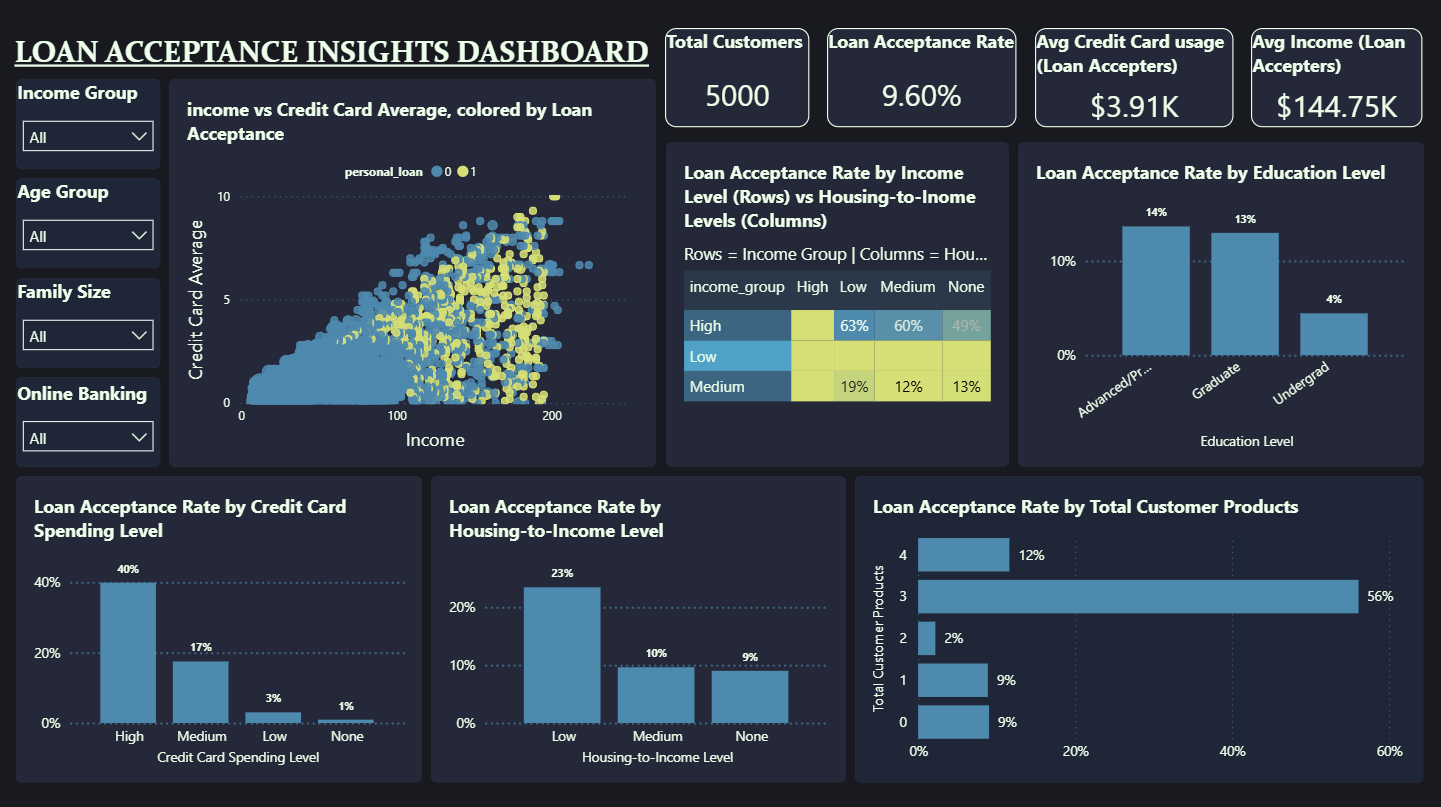

The page's visual inventory and layout, read from the dashboard file:
{"tool":"powerbi","page":{"name":"Page 1","canvas":[1280,720],"ordinal":0},"visuals":[{"type":"card","title":"Total Customers","fields":{"Values":["Bank_Customers_table.total_customers"]},"box":[591.1,26.7,128,88],"z":0},{"type":"card","title":"Loan Acceptance Rate","fields":{"Values":["Bank_Customers_table.Loan_Acceptance_Rate"]},"box":[735.1,26.7,168,88],"z":1000},{"type":"card","title":"Avg Income (Loan Accepters)","fields":{"Values":["Bank_Customers_table.Avg Income (Loan Accepters)"]},"box":[1111.1,26.7,152,88],"z":2000},{"type":"card","title":"Avg Credit Card usage (Loan Accepters) ","fields":{"Values":["Bank_Customers_table.Avg Credit Card Spend (Loan Accepters)"]},"box":[919.1,26.7,176,88],"z":3000},{"type":"slicer","title":"Income Group","fields":{"Values":["Bank_Customers_table.income_group"]},"box":[16,72,128,80],"z":4000},{"type":"slicer","title":"Family Size","fields":{"Values":["Bank_Customers_table.family"]},"box":[16,248,128,80],"z":5000},{"type":"slicer","title":"Online Banking","fields":{"Values":["Bank_Customers_table.online_banking"]},"box":[16,336,128,80],"z":6000},{"type":"slicer","title":"Age Group","fields":{"Values":["Bank_Customers_table.age_bracket"]},"box":[16,160,128,80],"z":7000},{"type":"clusteredColumnChart","title":"Loan Acceptance Rate by Housing-to-Income Level","fields":{"Category":["Bank_Customers_table.housing_to_income_group"],"Y":["Bank_Customers_table.Loan_Acceptance_Rate"]},"box":[384,424,368,272],"z":8000},{"type":"clusteredColumnChart","title":"Loan Acceptance Rate by Credit Card Spending Level","fields":{"Category":["Bank_Customers_table.cc_avg_group"],"Y":["Bank_Customers_table.Loan_Acceptance_Rate"]},"box":[16,424,360,272],"z":9000},{"type":"scatterChart","title":"income vs Credit Card Average, colored by Loan Acceptance","fields":{"X":["Bank_Customers_table.income"],"Y":["Bank_Customers_table.cc_avg"],"Series":["Bank_Customers_table.personal_loan"],"Size":["CountNonNull(Bank_Customers_table.id)"]},"box":[152,72,432,344],"z":10000},{"type":"clusteredBarChart","title":"Loan Acceptance Rate by Total Customer Products","fields":{"Category":["Bank_Customers_table.total_customer_products"],"Y":["Bank_Customers_table.Loan_Acceptance_Rate"]},"box":[760,424,504,272],"z":11000},{"type":"pivotTable","title":"Loan Acceptance Rate by Income Level (Rows) vs Housing-to-Inome Levels (Columns)","fields":{"Values":["Bank_Customers_table.Loan_Acceptance_Rate"],"Rows":["Bank_Customers_table.income_group"],"Columns":["Bank_Customers_table.housing_to_income_group"]},"box":[592,128,304,288],"z":12000},{"type":"textbox","box":[8,32,576,56],"z":13000},{"type":"clusteredColumnChart","title":"Loan Acceptance Rate by Education Level","fields":{"Category":["Bank_Customers_table.education_level"],"Y":["Bank_Customers_table.Loan_Acceptance_Rate"]},"box":[904,128,360,288],"z":14000}]}

Visuals, with their boxes in screenshot pixels (x1, y1, x2, y2), scaled from the page's 1280x720 canvas onto the 1441x807 screenshot:
"Total Customers" card: Rect(665, 30, 810, 129)
"Loan Acceptance Rate" card: Rect(828, 30, 1017, 129)
"Avg Income (Loan Accepters)" card: Rect(1251, 30, 1422, 129)
"Avg Credit Card usage (Loan Accepters) " card: Rect(1035, 30, 1233, 129)
"Income Group" slicer: Rect(18, 81, 162, 170)
"Family Size" slicer: Rect(18, 278, 162, 368)
"Online Banking" slicer: Rect(18, 377, 162, 466)
"Age Group" slicer: Rect(18, 179, 162, 269)
"Loan Acceptance Rate by Housing-to-Income Level" clusteredColumnChart: Rect(432, 475, 847, 780)
"Loan Acceptance Rate by Credit Card Spending Level" clusteredColumnChart: Rect(18, 475, 423, 780)
"income vs Credit Card Average, colored by Loan Acceptance" scatterChart: Rect(171, 81, 657, 466)
"Loan Acceptance Rate by Total Customer Products" clusteredBarChart: Rect(856, 475, 1423, 780)
"Loan Acceptance Rate by Income Level (Rows) vs Housing-to-Inome Levels (Columns)" pivotTable: Rect(666, 143, 1009, 466)
textbox: Rect(9, 36, 657, 99)
"Loan Acceptance Rate by Education Level" clusteredColumnChart: Rect(1018, 143, 1423, 466)
